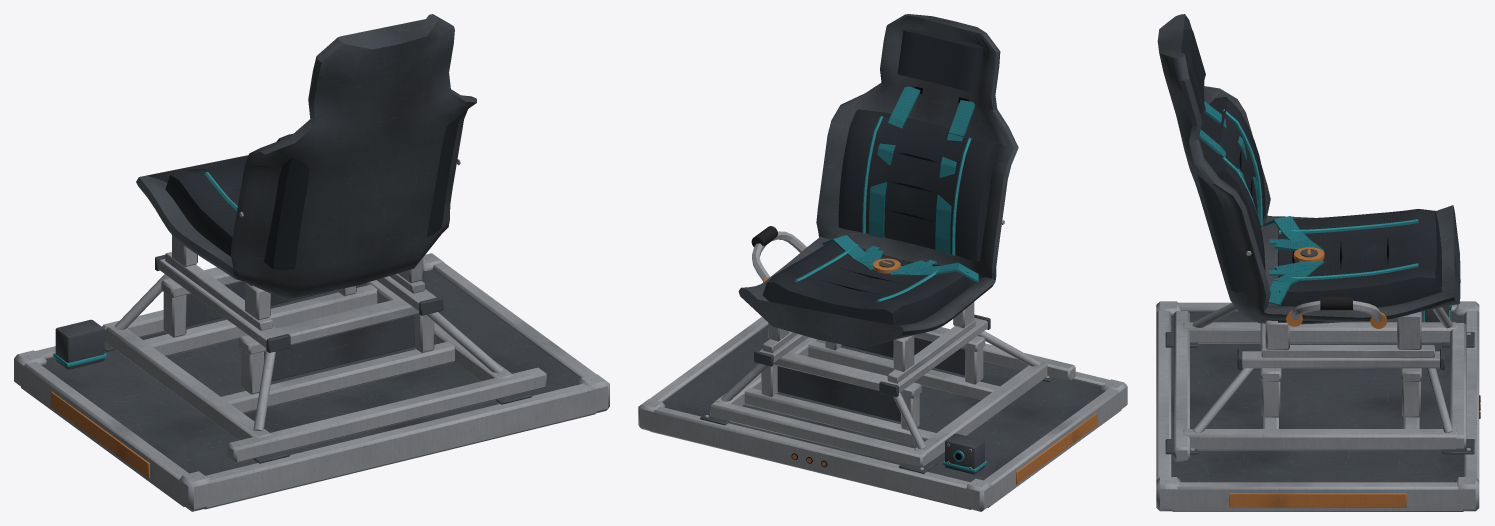
Rendered from passenger_seat_3.glb.
The picture shows the model from 3 angles, left to right: view 1: azimuth 30°, elevation 25°; view 2: azimuth 150°, elevation 25°; view 3: azimuth 270°, elevation 25°; orthographic projection. The views are drawn at different scales.
Parts seen in each view (by area): view 1: Base, ShellFrame, Backrest, Cushion; view 2: Base, ShellFrame, Backrest, Cushion; view 3: Base, ShellFrame, Cushion, Backrest.
Part boxes in pixels (x1,y1,x2,y2): Base: (14, 252, 609, 511); ShellFrame: (136, 14, 476, 320); Backrest: (264, 116, 459, 270); Cushion: (165, 161, 251, 285); Base: (638, 314, 1127, 511); ShellFrame: (738, 14, 1018, 371); Backrest: (838, 29, 1000, 260); Cushion: (762, 235, 978, 325); Base: (1156, 301, 1480, 511); ShellFrame: (1157, 14, 1460, 349); Cushion: (1263, 209, 1441, 323); Backrest: (1181, 29, 1265, 292).
Size of the model in its own units: 0.948 by 0.9075 by 0.6927.
9 materials, 7 textured.
